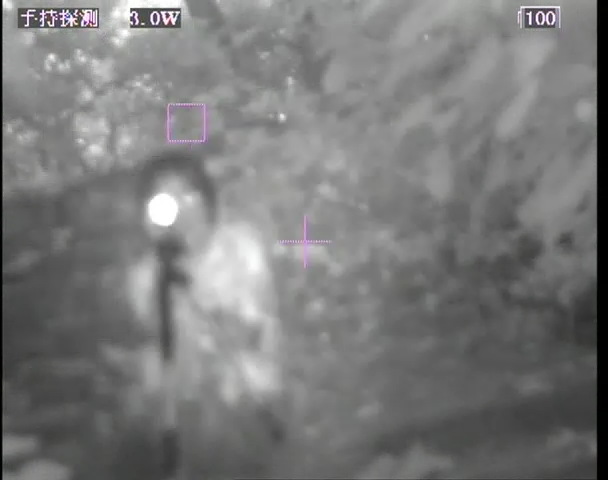my: (146, 191, 181, 226)
